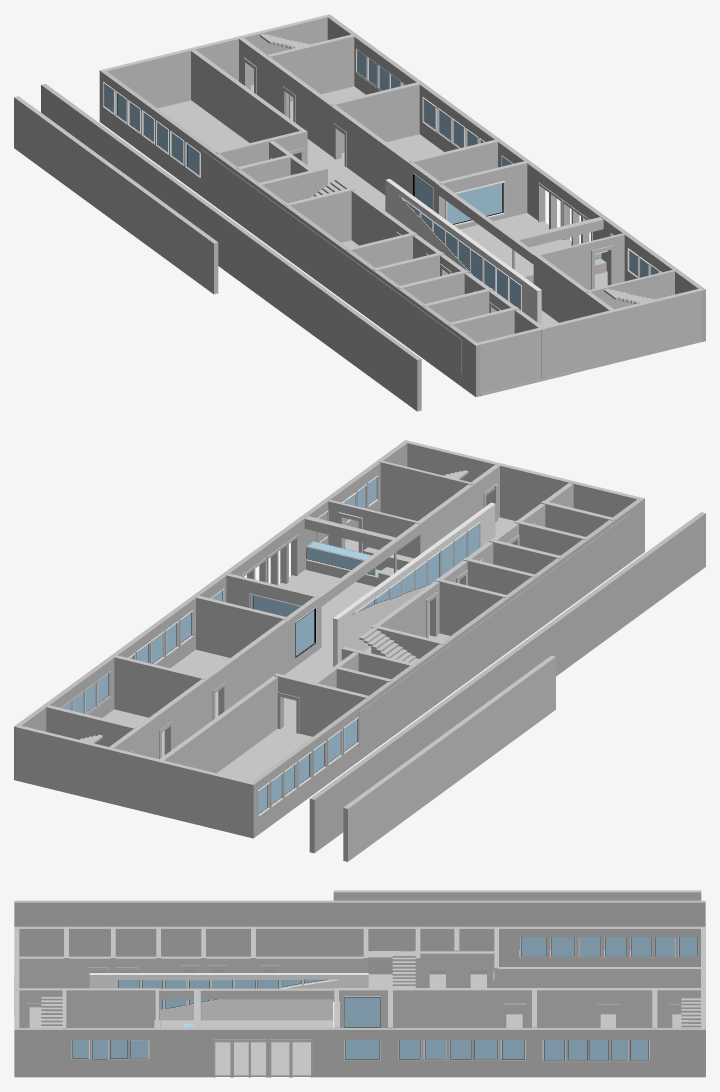
Rendered from Rez de chaussée.fbx.
3 renders of one model, top to bottom at view 1: azimuth 30°, elevation 25°; view 2: azimuth 150°, elevation 25°; view 3: azimuth 270°, elevation 25°, orthographic. The views are drawn at different scales.
Parts seen in each view (by area): view 1: Façade Arrière, Façade Gauche, Cube.009, Façade Arrière.004, Façade Arrière.002, Cube.004, Façade Arrière.005, Façade Gauche.001, Cube.010, Sol couloir$.001, Cube.012, Cube.013 (+22 smaller); view 2: Façade Arrière, Façade Gauche.001, Cube.009, Façade Arrière.004, Façade Arrière.002, Cube.004, Façade Arrière.005, Sol couloir$.001, Façade Gauche, Cube.010, Cube.013, Sol bas (+23 smaller); view 3: Façade Arrière.005, Façade Arrière, Façade Arrière.004, Cube.004, Cube.012, Cube.013, Façade Arrière.002, Cube.010, Cube.009, Cube, Cube.001, Sol bas (+32 smaller).
Boxes of the visible parts, bbox=[...] form: Façade Arrière: bbox=[41, 84, 421, 411]; Façade Gauche: bbox=[473, 288, 703, 393]; Cube.009: bbox=[14, 96, 218, 294]; Façade Arrière.004: bbox=[99, 71, 480, 396]; Façade Arrière.002: bbox=[201, 149, 461, 373]; Cube.004: bbox=[239, 38, 443, 217]; Façade Arrière.005: bbox=[327, 14, 705, 341]; Façade Gauche.001: bbox=[100, 15, 329, 108]; Cube.010: bbox=[191, 50, 304, 158]; Sol couloir$.001: bbox=[159, 100, 607, 326]; Cube.012: bbox=[351, 190, 546, 379]; Cube.013: bbox=[385, 179, 541, 325]; Façade Arrière: bbox=[309, 512, 705, 853]; Façade Gauche.001: bbox=[16, 725, 255, 838]; Cube.009: bbox=[343, 655, 555, 861]; Façade Arrière.004: bbox=[252, 498, 644, 838]; Façade Arrière.002: bbox=[359, 514, 630, 747]; Cube.004: bbox=[109, 595, 321, 759]; Façade Arrière.005: bbox=[14, 440, 407, 780]; Sol couloir$.001: bbox=[105, 517, 515, 781]; Façade Gauche: bbox=[405, 440, 644, 520]; Cube.010: bbox=[159, 675, 277, 773]; Cube.013: bbox=[333, 502, 495, 666]; Sol bas: bbox=[102, 539, 380, 756]; Façade Arrière.005: bbox=[14, 1028, 705, 1077]; Façade Arrière: bbox=[14, 900, 705, 949]; Façade Arrière.004: bbox=[14, 926, 705, 974]; Cube.004: bbox=[333, 988, 701, 1027]; Cube.012: bbox=[19, 956, 366, 988]; Cube.013: bbox=[89, 973, 368, 1020]; Façade Arrière.002: bbox=[52, 937, 516, 958]; Cube.010: bbox=[495, 967, 700, 1014]; Cube.009: bbox=[333, 890, 701, 900]; Cube: bbox=[19, 988, 159, 1027]; Cube.001: bbox=[19, 988, 333, 999]; Sol bas: bbox=[71, 1040, 542, 1073].
Bounding box in the file's own units: 14.01 × 2.29 × 28.62.
